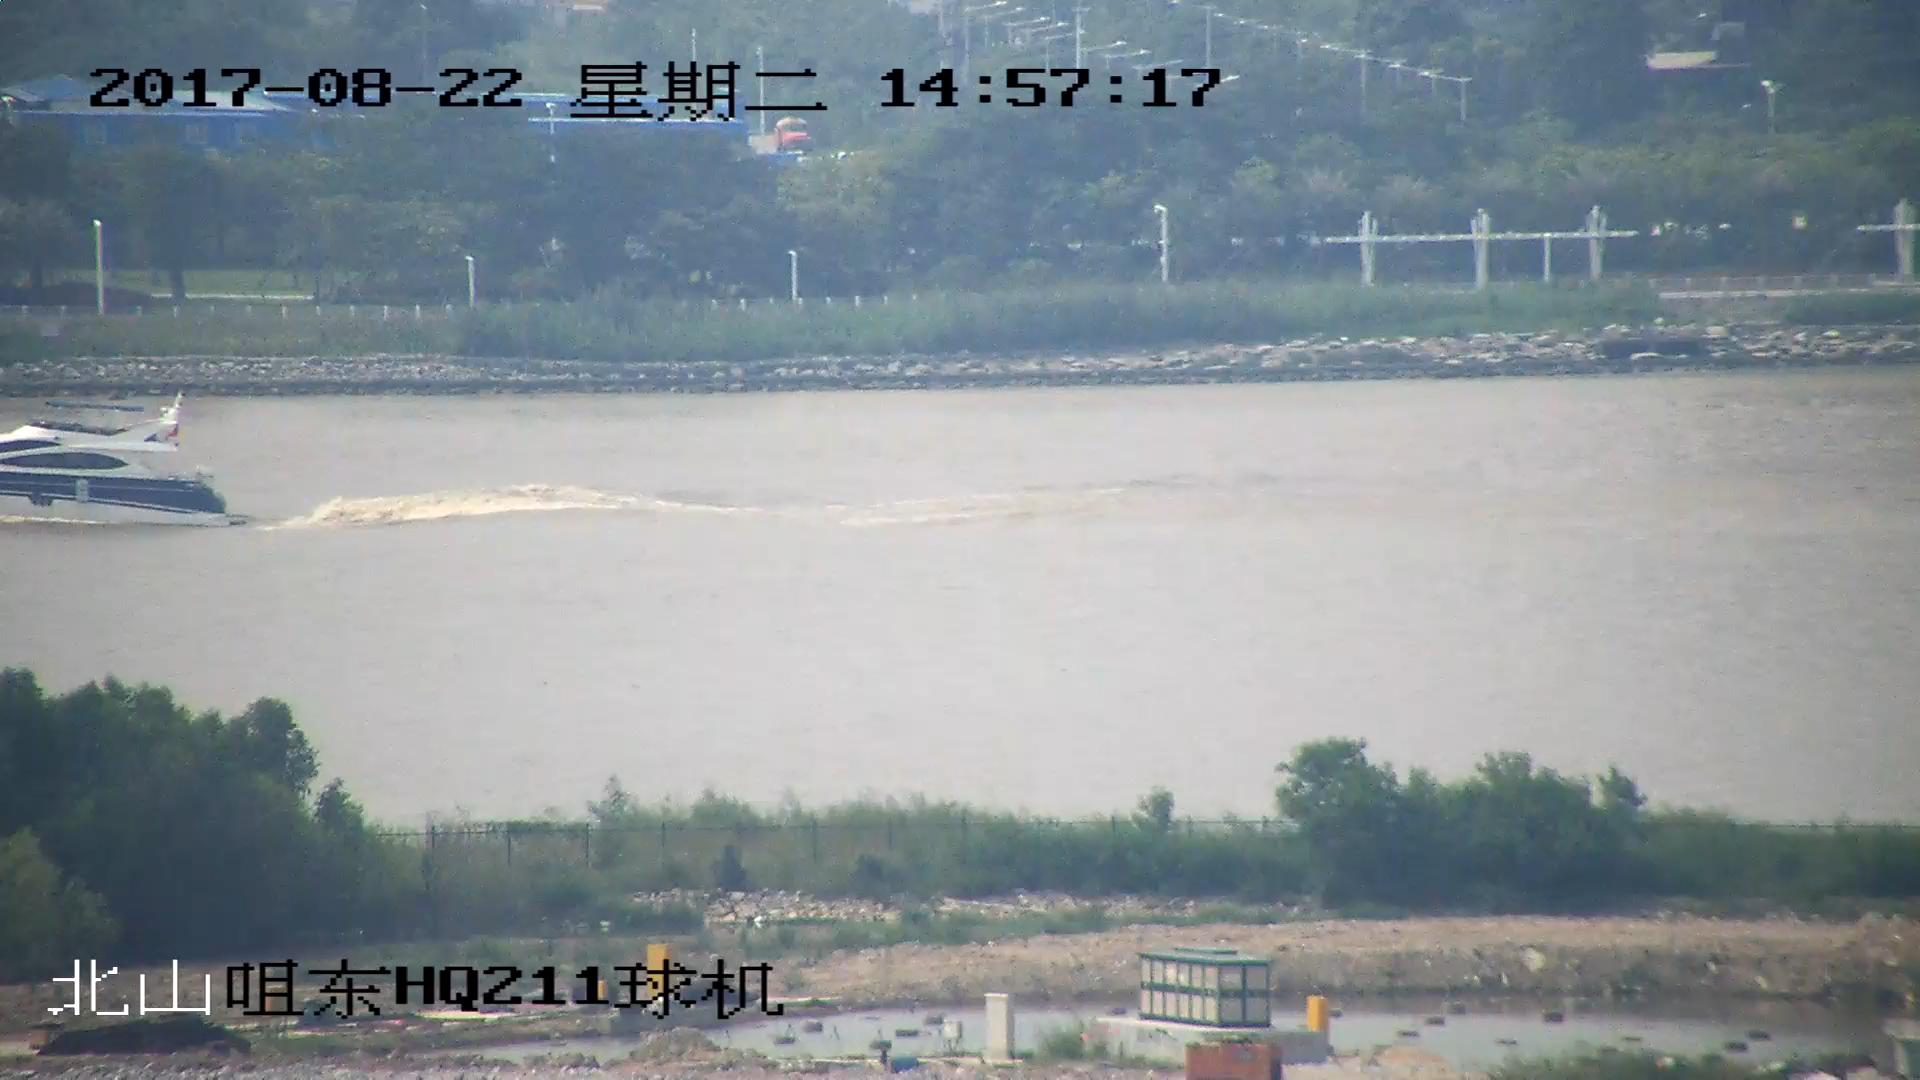passenger ship: (1, 394, 242, 533)
